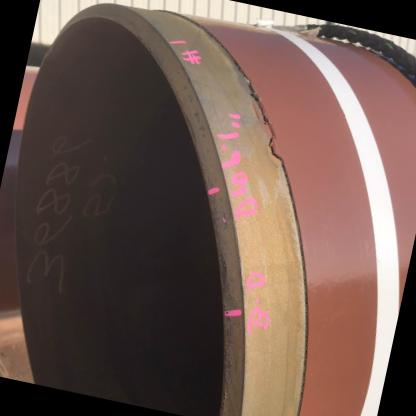Bevel: (208, 216, 237, 304)
